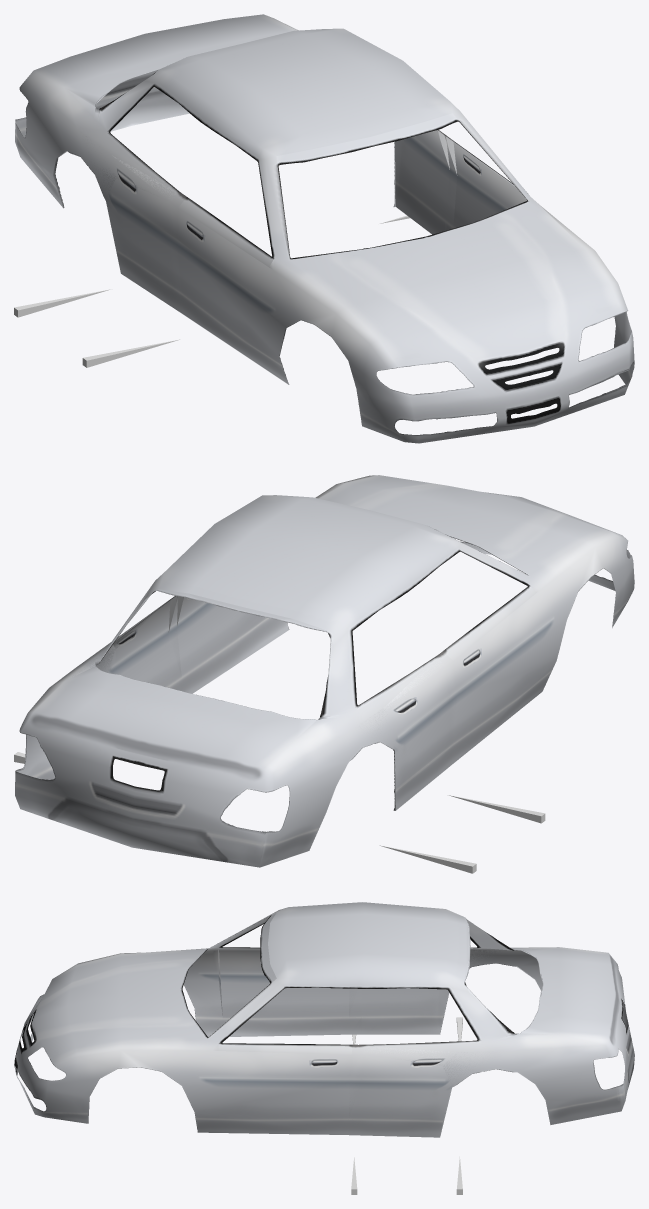
The model's file is Sedan.FBX.
3 renders of one model, top to bottom at view 1: azimuth 30°, elevation 25°; view 2: azimuth 150°, elevation 25°; view 3: azimuth 270°, elevation 25°, orthographic. The views are drawn at different scales.
Parts seen in each view (by area): view 1: Sedan1BodyLores, Sedan2BodyWindowed, DoorL, DoorBL, Sedan3BodyDoorCut, DoorR, EnterR, EnterBR; view 2: Sedan1BodyLores, Sedan2BodyWindowed, Sedan3BodyDoorCut, DoorL, DoorBL, DoorR, EnterR, EnterBR; view 3: Sedan1BodyLores, Sedan2BodyWindowed, Sedan3BodyDoorCut, DoorR, DoorBR, DoorL, DoorBL.
Part boxes in pixels (x1=…): Sedan1BodyLores: x1=15, y1=14, x2=634, y2=443; Sedan2BodyWindowed: x1=64, y1=32, x2=634, y2=407; DoorL: x1=453, y1=142, x2=526, y2=227; DoorBL: x1=400, y1=130, x2=449, y2=220; Sedan3BodyDoorCut: x1=78, y1=129, x2=457, y2=313; DoorR: x1=178, y1=198, x2=273, y2=266; EnterR: x1=82, y1=339, x2=179, y2=367; EnterBR: x1=14, y1=289, x2=110, y2=317; Sedan1BodyLores: x1=15, y1=477, x2=634, y2=867; Sedan2BodyWindowed: x1=16, y1=475, x2=519, y2=775; Sedan3BodyDoorCut: x1=68, y1=586, x2=539, y2=768; DoorL: x1=177, y1=597, x2=266, y2=677; DoorBL: x1=113, y1=601, x2=172, y2=686; DoorR: x1=444, y1=586, x2=535, y2=660; EnterR: x1=448, y1=795, x2=545, y2=823; EnterBR: x1=379, y1=845, x2=476, y2=873; Sedan1BodyLores: x1=14, y1=902, x2=634, y2=1137; Sedan2BodyWindowed: x1=17, y1=913, x2=624, y2=1124; Sedan3BodyDoorCut: x1=184, y1=921, x2=556, y2=1135; DoorR: x1=218, y1=948, x2=349, y2=1018; DoorBR: x1=361, y1=948, x2=479, y2=1016; DoorL: x1=218, y1=1043, x2=352, y2=1054; DoorBL: x1=363, y1=1046, x2=449, y2=1065.
Size of what is drawn, in the model's own units: 331 by 158 by 506.
